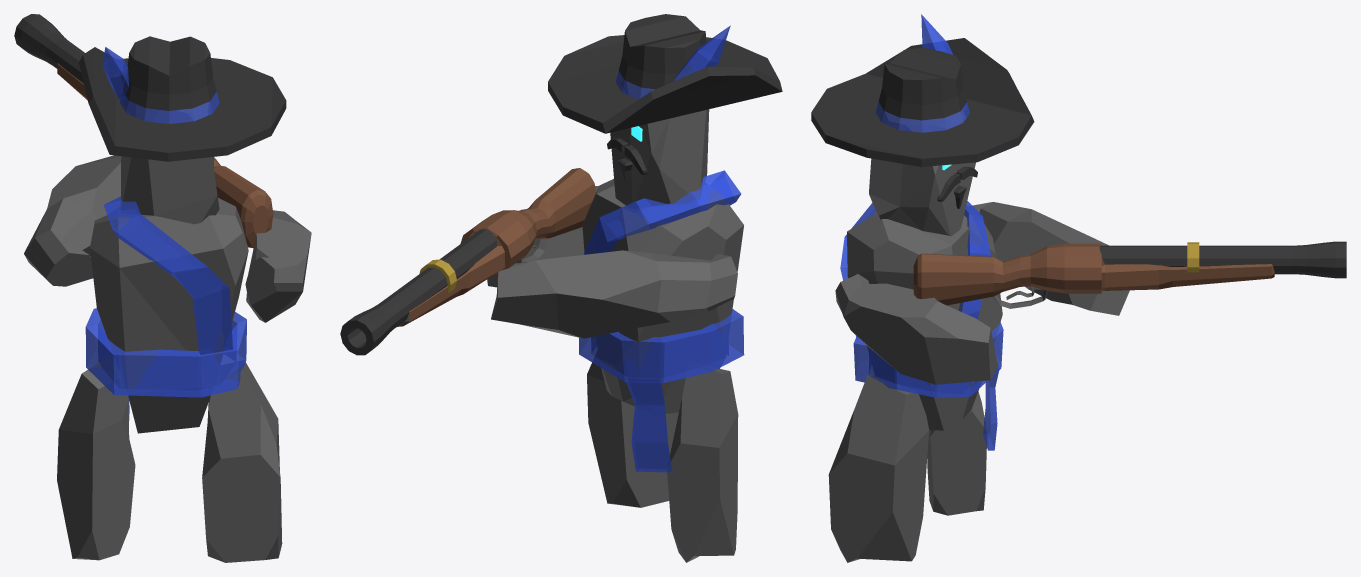
Rendered from golemMusket.fbx.
3 renders of one model, left to right at view 1: azimuth 30°, elevation 25°; view 2: azimuth 150°, elevation 25°; view 3: azimuth 270°, elevation 25°, orthographic. The views are drawn at different scales.
Visible parts, largest first — view 1: Cube.003; view 2: Cube.003; view 3: Cube.003.
Part boxes in pixels (x1,y1,x2,y2): Cube.003: (14, 14, 311, 562); Cube.003: (340, 14, 782, 562); Cube.003: (811, 14, 1346, 562).
Size of the model in its own units: 385 by 774 by 765.
